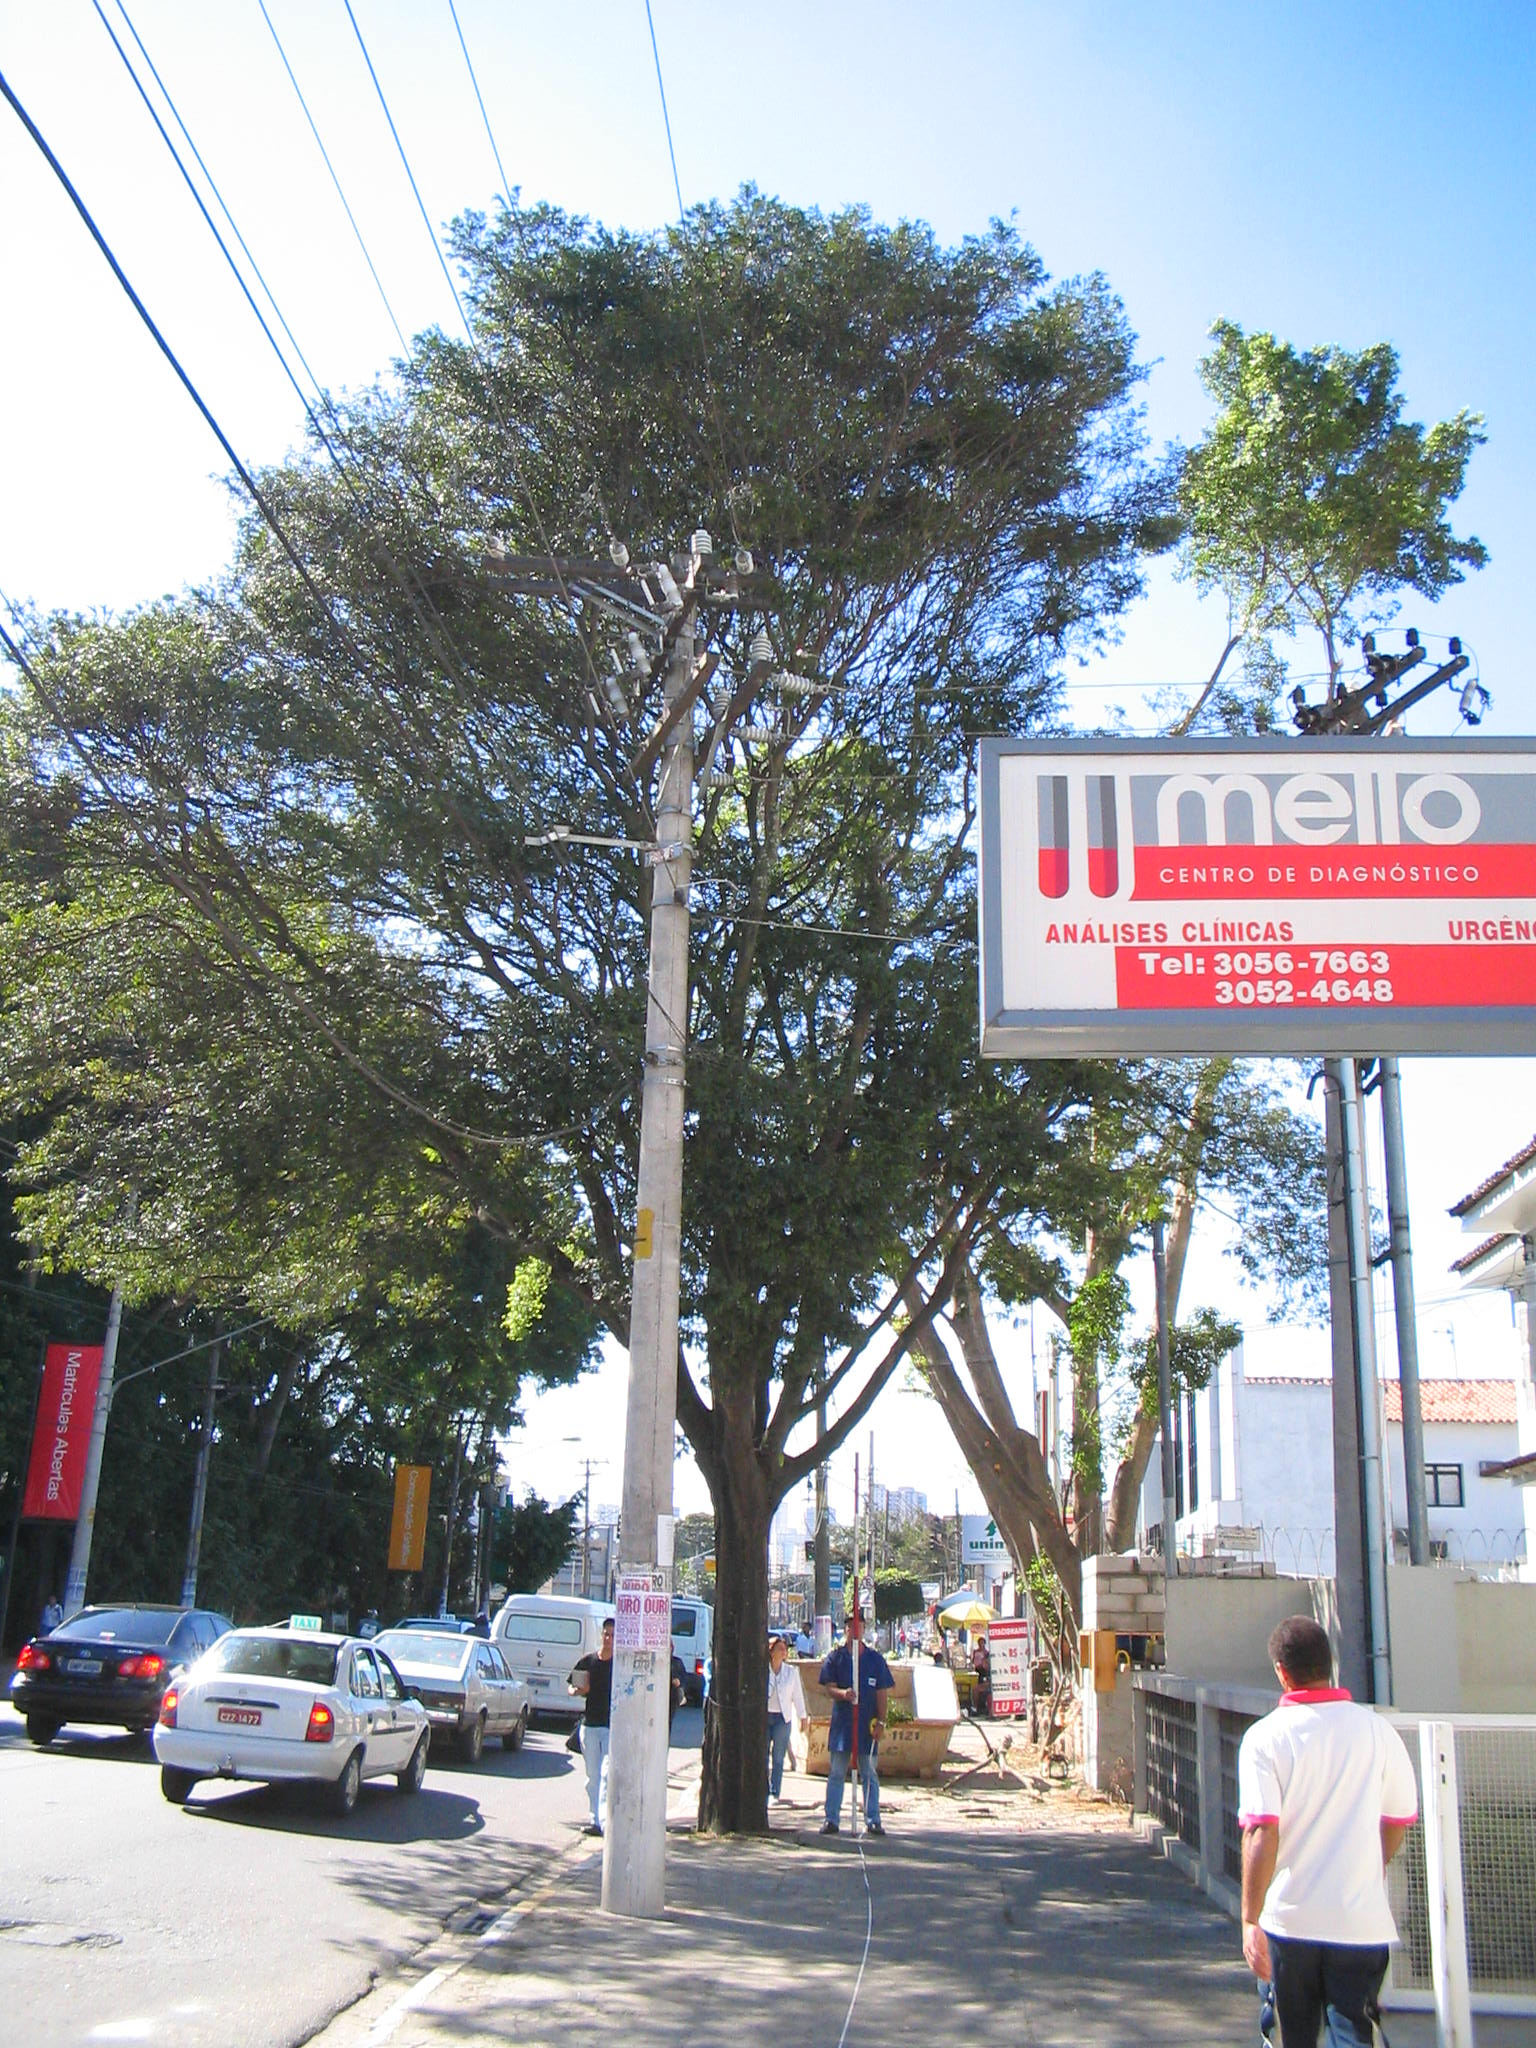crown: (35, 184, 1181, 1484)
stem: (682, 1500, 828, 1845)
stick: (841, 1451, 870, 1837)
tree: (27, 176, 1181, 1845)
